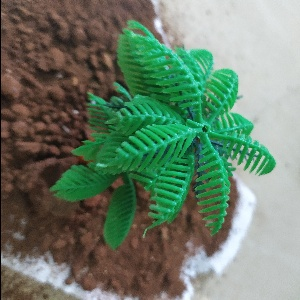plant: (60, 25, 251, 240)
